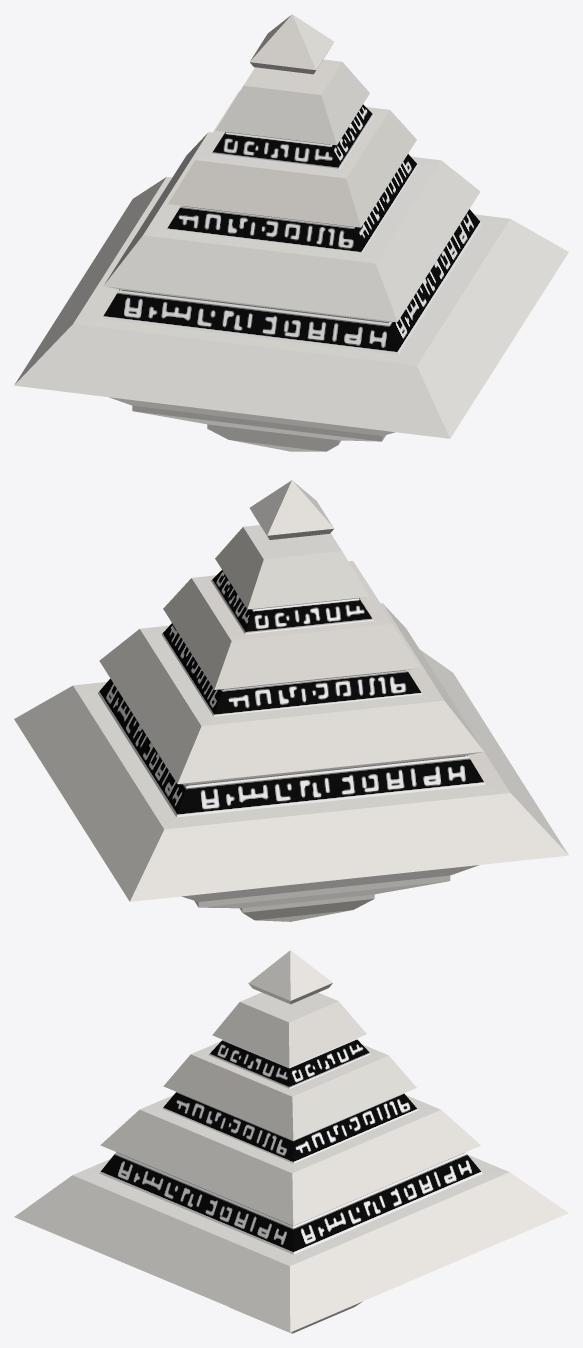
File: Building_Piramito_20251017 (1).fbx
3 views of the same model, one above another, from view 1: azimuth 30°, elevation 25°; view 2: azimuth 150°, elevation 25°; view 3: azimuth 270°, elevation 25° (orthographic). The views are drawn at different scales.
Parts seen in each view (by area): view 1: piramito_hontai, piramito_pattern, piramito_ue; view 2: piramito_hontai, piramito_pattern, piramito_ue; view 3: piramito_hontai, piramito_pattern, piramito_ue.
Boxes of the visible parts, box(x1,y1,x2,y2) form: piramito_hontai: box(14, 59, 568, 451); piramito_pattern: box(102, 104, 481, 354); piramito_ue: box(250, 14, 333, 74); piramito_hontai: box(14, 525, 568, 921); piramito_pattern: box(98, 570, 485, 817); piramito_ue: box(249, 480, 334, 539); piramito_hontai: box(14, 992, 568, 1333); piramito_pattern: box(99, 1039, 482, 1254); piramito_ue: box(248, 950, 332, 1004).
Bounding box in the file's own units: 1232 × 932 × 1232.
2 materials, 2 textured.
